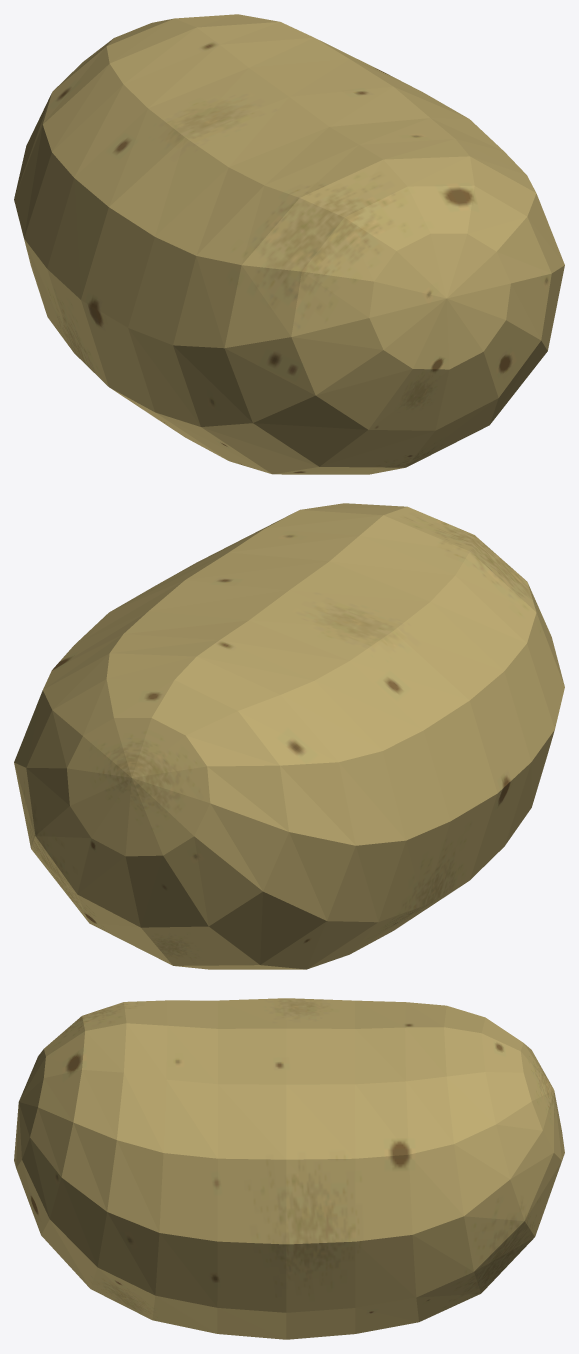
Rendered from Chips_Raw.obj.
3 renders of one model, top to bottom at view 1: azimuth 30°, elevation 25°; view 2: azimuth 150°, elevation 25°; view 3: azimuth 270°, elevation 25°, orthographic. The views are drawn at different scales.
Visible parts, largest first — view 1: Fish_Raw; view 2: Fish_Raw; view 3: Fish_Raw.
Boxes of the visible parts, box(x1,y1,x2,y2) form: Fish_Raw: box(14, 14, 564, 474); Fish_Raw: box(14, 503, 564, 969); Fish_Raw: box(14, 998, 564, 1339).
Size of the model in its own units: 0.6985 by 0.5553 by 0.9407.
Materials: 1 (1 with a texture image).
